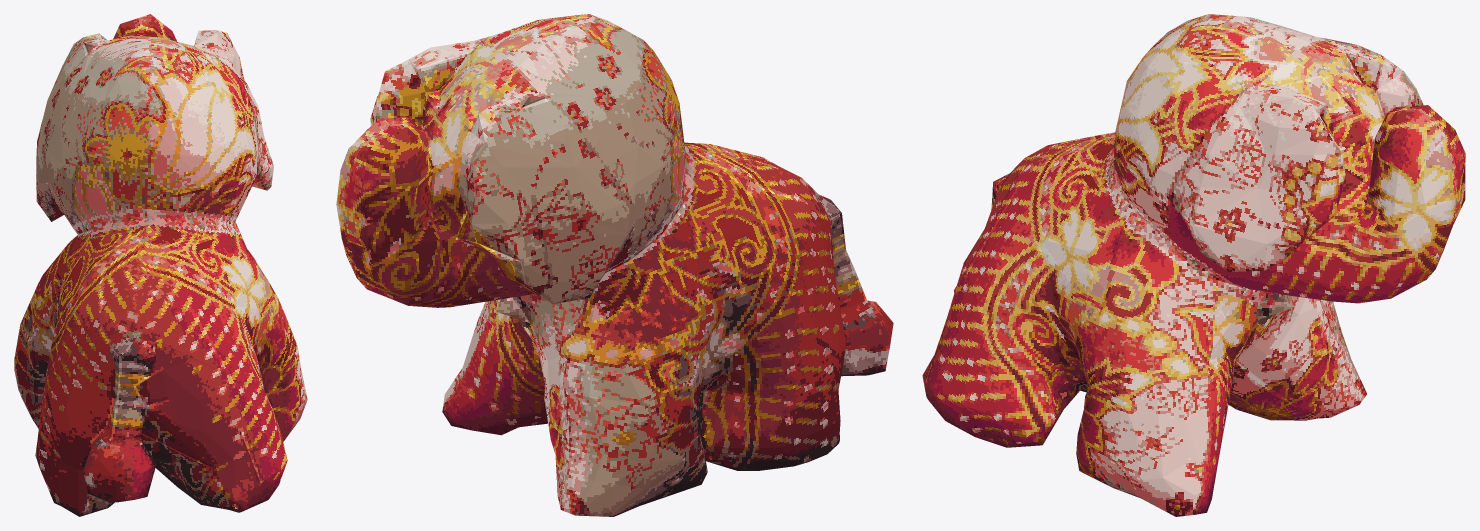
The model's file is elephant.glb.
3 views of the same model, side by side, from view 1: azimuth 30°, elevation 25°; view 2: azimuth 150°, elevation 25°; view 3: azimuth 270°, elevation 25° (orthographic). The views are drawn at different scales.
Parts seen in each view (by area): view 1: model_m; view 2: model_m; view 3: model_m.
Part boxes in pixels (box(x1,y1,x2,y2)): model_m: box(14, 14, 307, 516); model_m: box(336, 14, 893, 516); model_m: box(922, 14, 1465, 516).
Size of the model in its own units: 24.21 by 29.12 by 33.07.
1 material, 1 textured.
